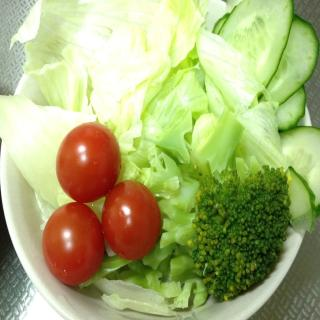tomato: (54, 121, 124, 204), (39, 204, 105, 286), (102, 180, 163, 262)
